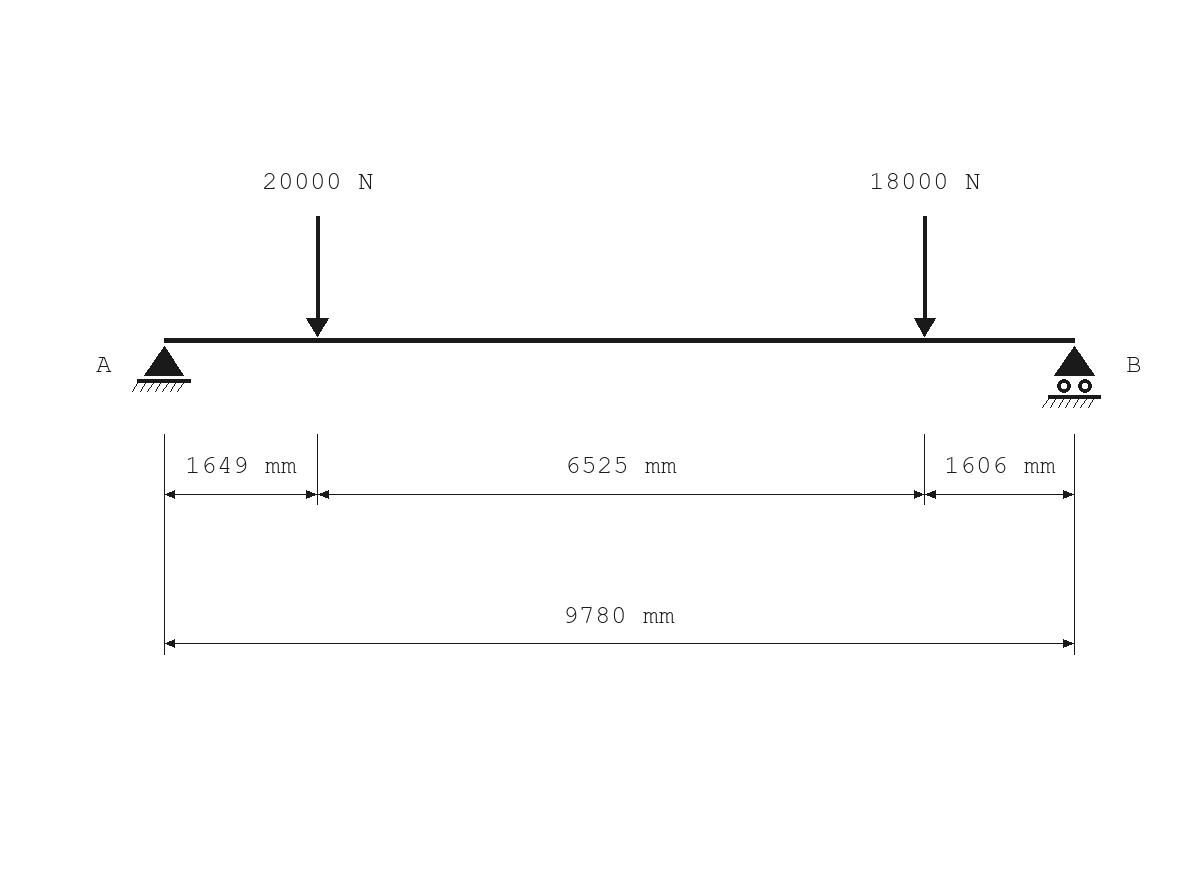pin_support: (132, 346, 191, 392)
point_load: (306, 216, 329, 337), (914, 216, 936, 337)
roller_support: (1042, 346, 1101, 408)
